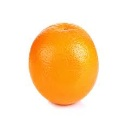orange: (27, 21, 102, 107)
